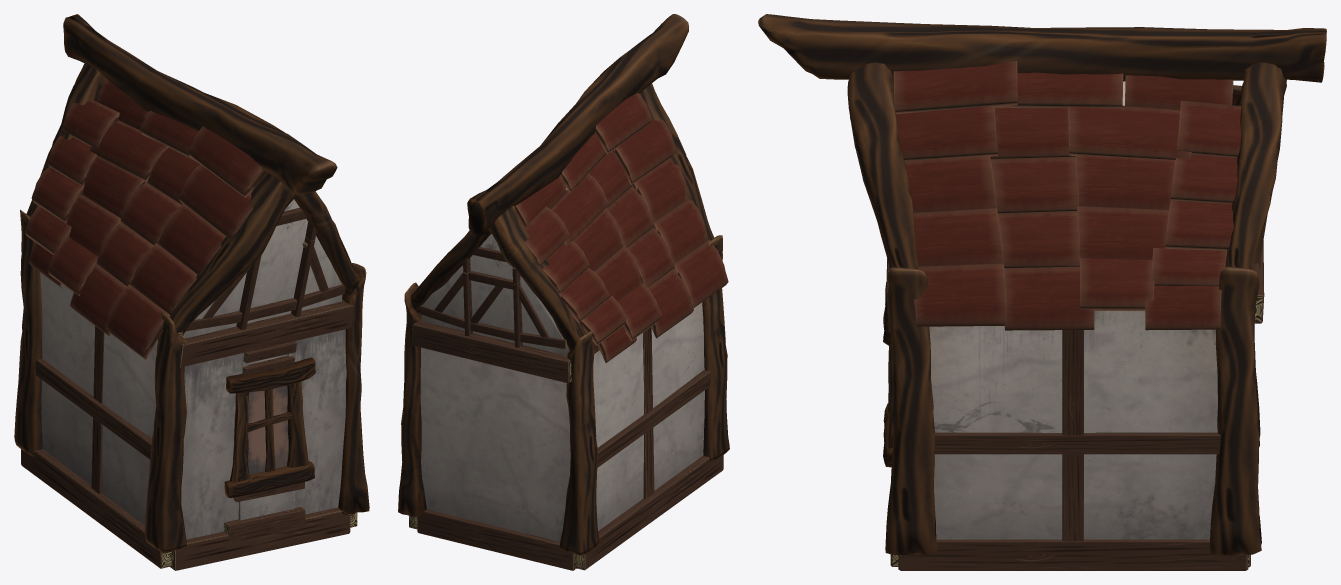
The model's file is Xanochka_T1.fbx.
The picture shows the model from 3 angles, left to right: view 1: azimuth 30°, elevation 25°; view 2: azimuth 150°, elevation 25°; view 3: azimuth 270°, elevation 25°; orthographic projection. The views are drawn at different scales.
Parts seen in each view (by area): view 1: Wood_2.003; view 2: Wood_2.003; view 3: Wood_2.003.
Part boxes in pixels (x1=…): Wood_2.003: x1=14, y1=14, x2=369, y2=570; Wood_2.003: x1=398, y1=14, x2=729, y2=570; Wood_2.003: x1=758, y1=14, x2=1326, y2=570.
Size of the model in its own units: 117 by 219 by 222.
